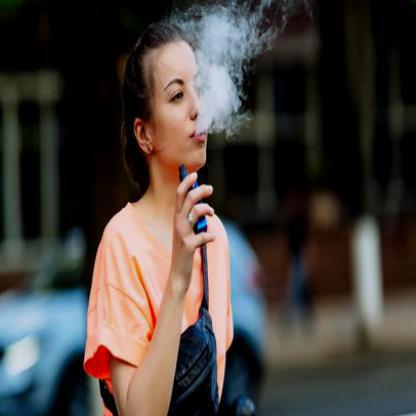person: (89, 15, 211, 415)
smoke: (194, 1, 249, 138), (250, 0, 279, 63)
